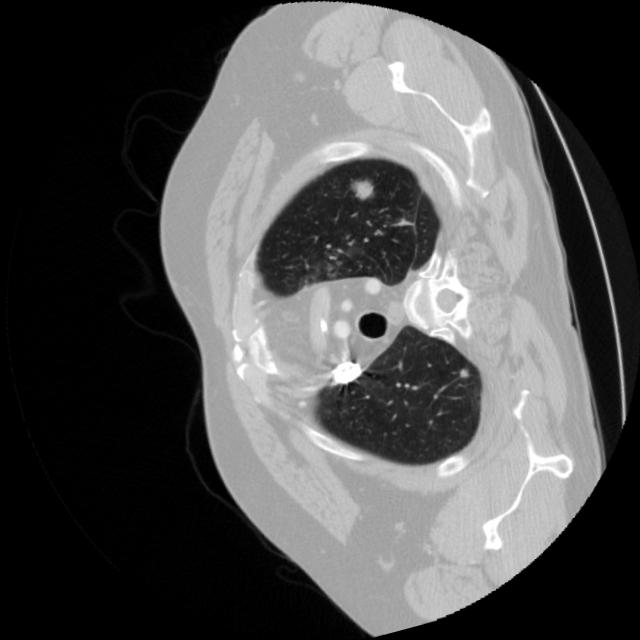nodule: (332, 161, 392, 220)
